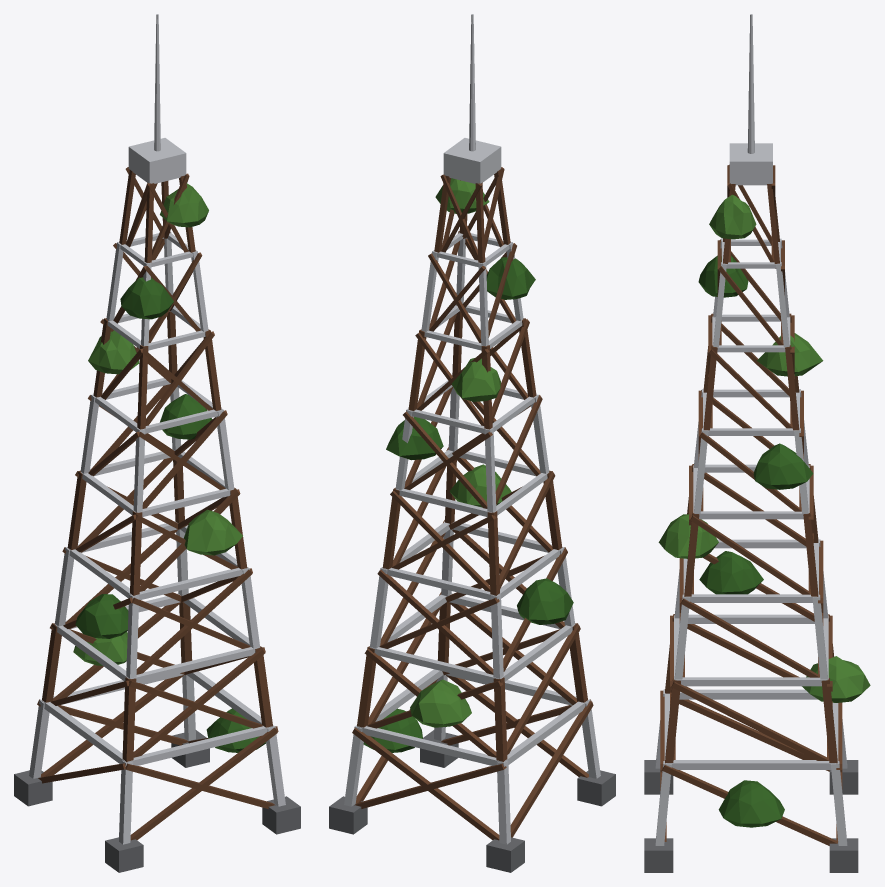
File: radio-tower.glb
3 views of the same model, side by side, from view 1: azimuth 30°, elevation 25°; view 2: azimuth 150°, elevation 25°; view 3: azimuth 270°, elevation 25° (orthographic).
Parts seen in each view (by area): view 1: RadioTower_Opaque; view 2: RadioTower_Opaque; view 3: RadioTower_Opaque.
Boxes of the visible parts, <box> form: RadioTower_Opaque: <box>14,14,300,872</box>; RadioTower_Opaque: <box>329,14,615,872</box>; RadioTower_Opaque: <box>644,14,870,872</box>.
Size of the model in its own units: 11.45 by 43.6 by 10.99.
